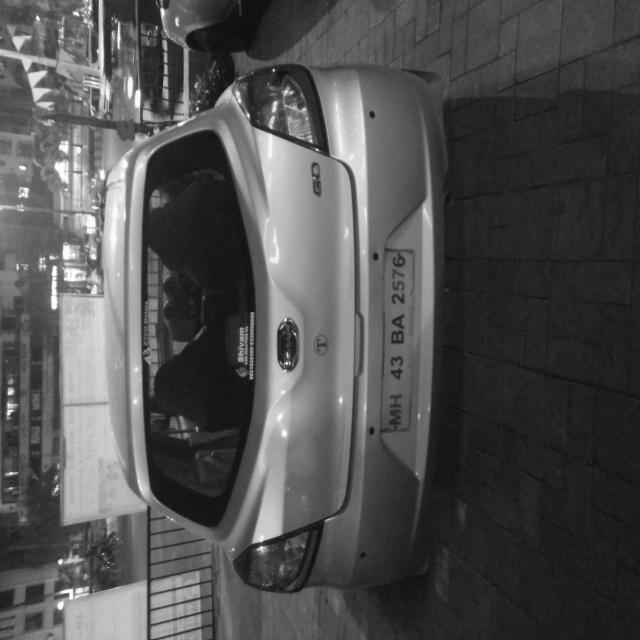car: (23, 141, 446, 640)
license-plate: (152, 494, 298, 552)
